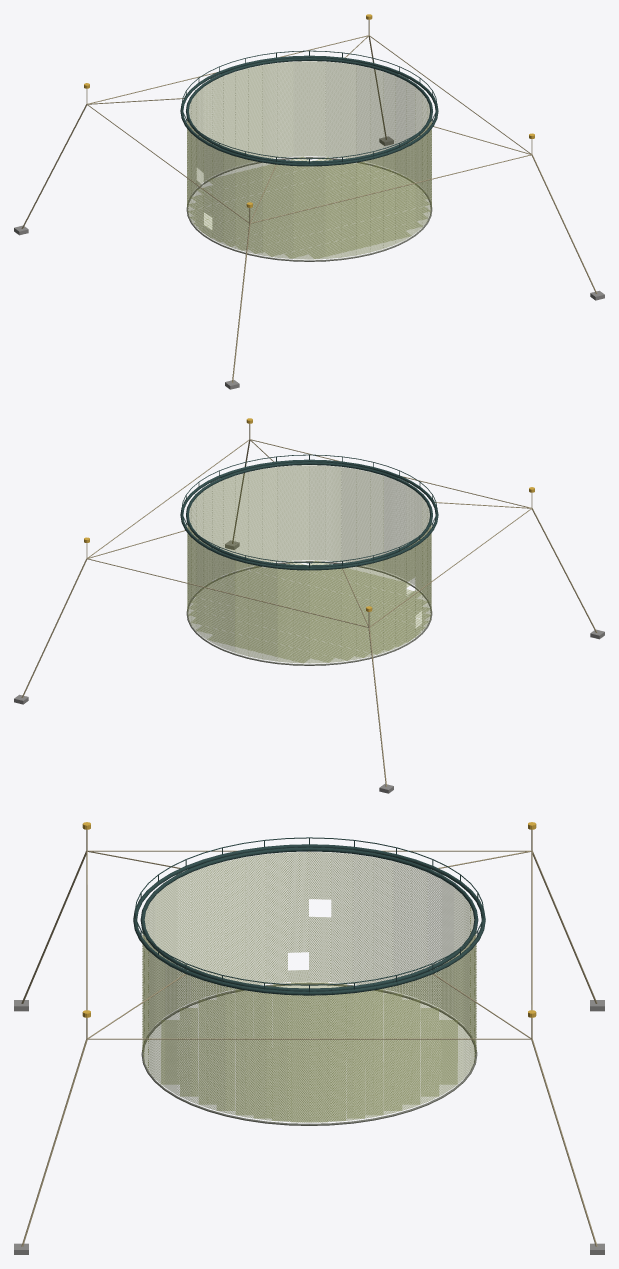
The model's file is pen.glb.
The picture shows the model from 3 angles, top to bottom: view 1: azimuth 30°, elevation 25°; view 2: azimuth 150°, elevation 25°; view 3: azimuth 270°, elevation 25°; orthographic projection. The views are drawn at different scales.
Visible parts, largest first — view 1: pen-net-0-0, pen_frame-18.0-0; view 2: pen-net-0-0, pen_frame-18.0-0; view 3: pen-net-0-0, pen_frame-18.0-0.
Boxes of the visible parts, x1=… form: pen-net-0-0: x1=187, y1=61, x2=431, y2=259; pen_frame-18.0-0: x1=14, y1=14, x2=604, y2=389; pen-net-0-0: x1=187, y1=465, x2=431, y2=663; pen_frame-18.0-0: x1=14, y1=418, x2=604, y2=793; pen-net-0-0: x1=142, y1=852, x2=476, y2=1122; pen_frame-18.0-0: x1=14, y1=822, x2=604, y2=1254.
Size of the model in its own units: 63.75 by 26.06 by 63.75.
Materials: 2 (2 with a texture image).
